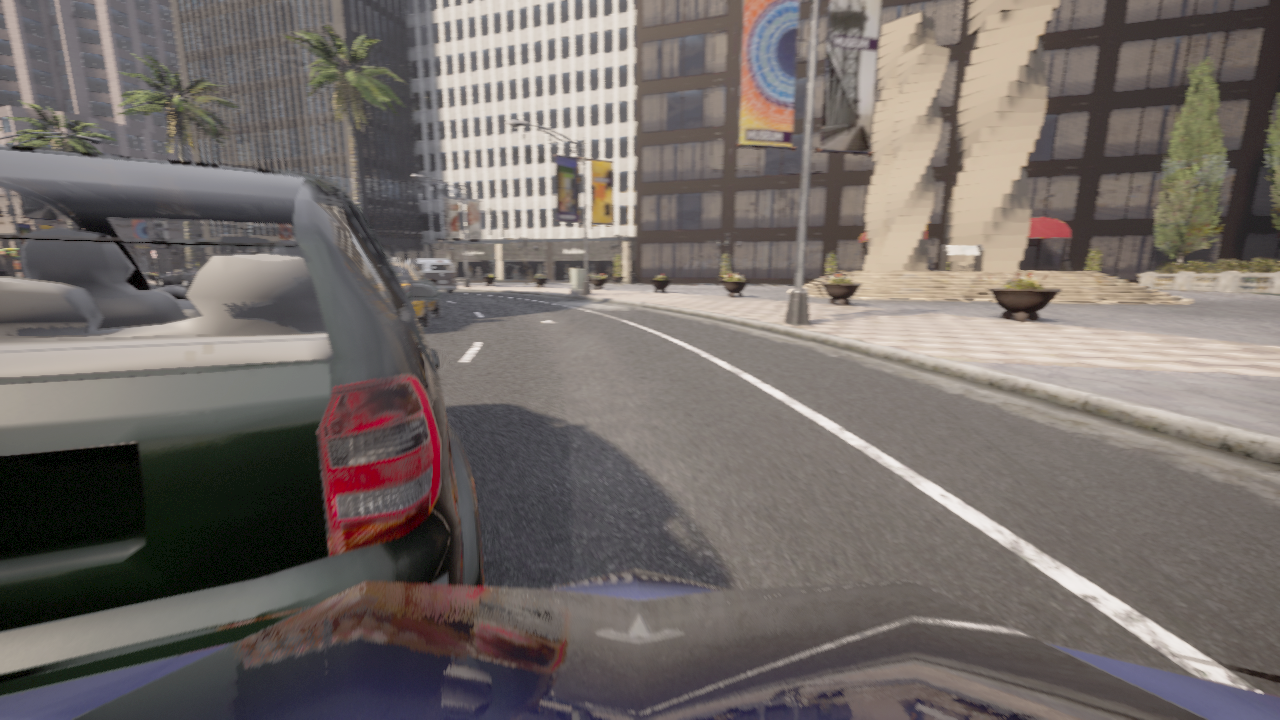cyclist: (0, 569, 1279, 719), (387, 257, 439, 327), (404, 259, 456, 294)
